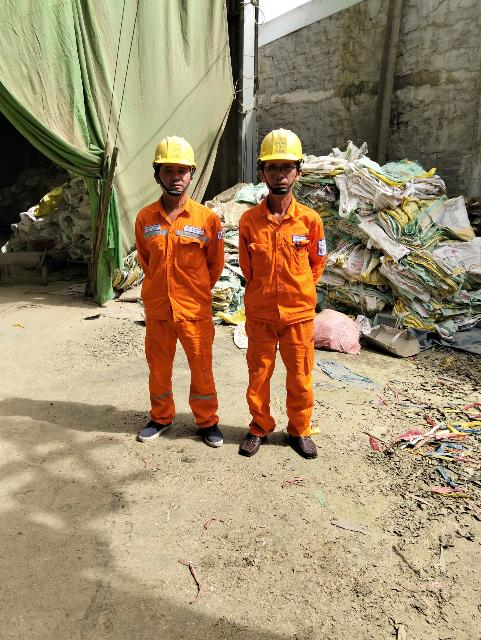helmet: (138, 131, 206, 173), (244, 127, 316, 166)
shoes: (279, 423, 329, 466), (128, 411, 180, 444), (236, 423, 282, 458), (195, 417, 230, 452)
